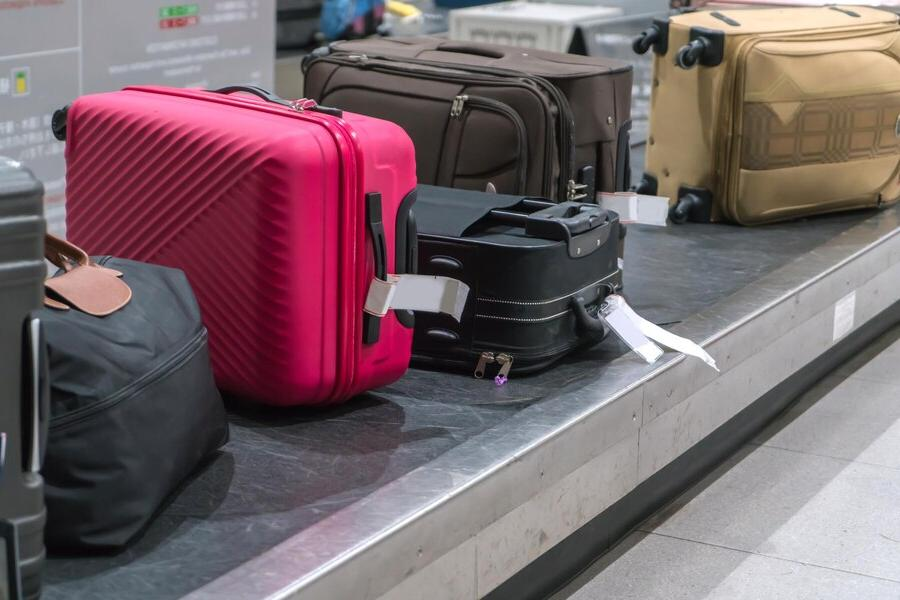baggage: (43, 75, 462, 425), (305, 22, 636, 241), (397, 181, 728, 399), (28, 231, 237, 545), (643, 6, 897, 241)
